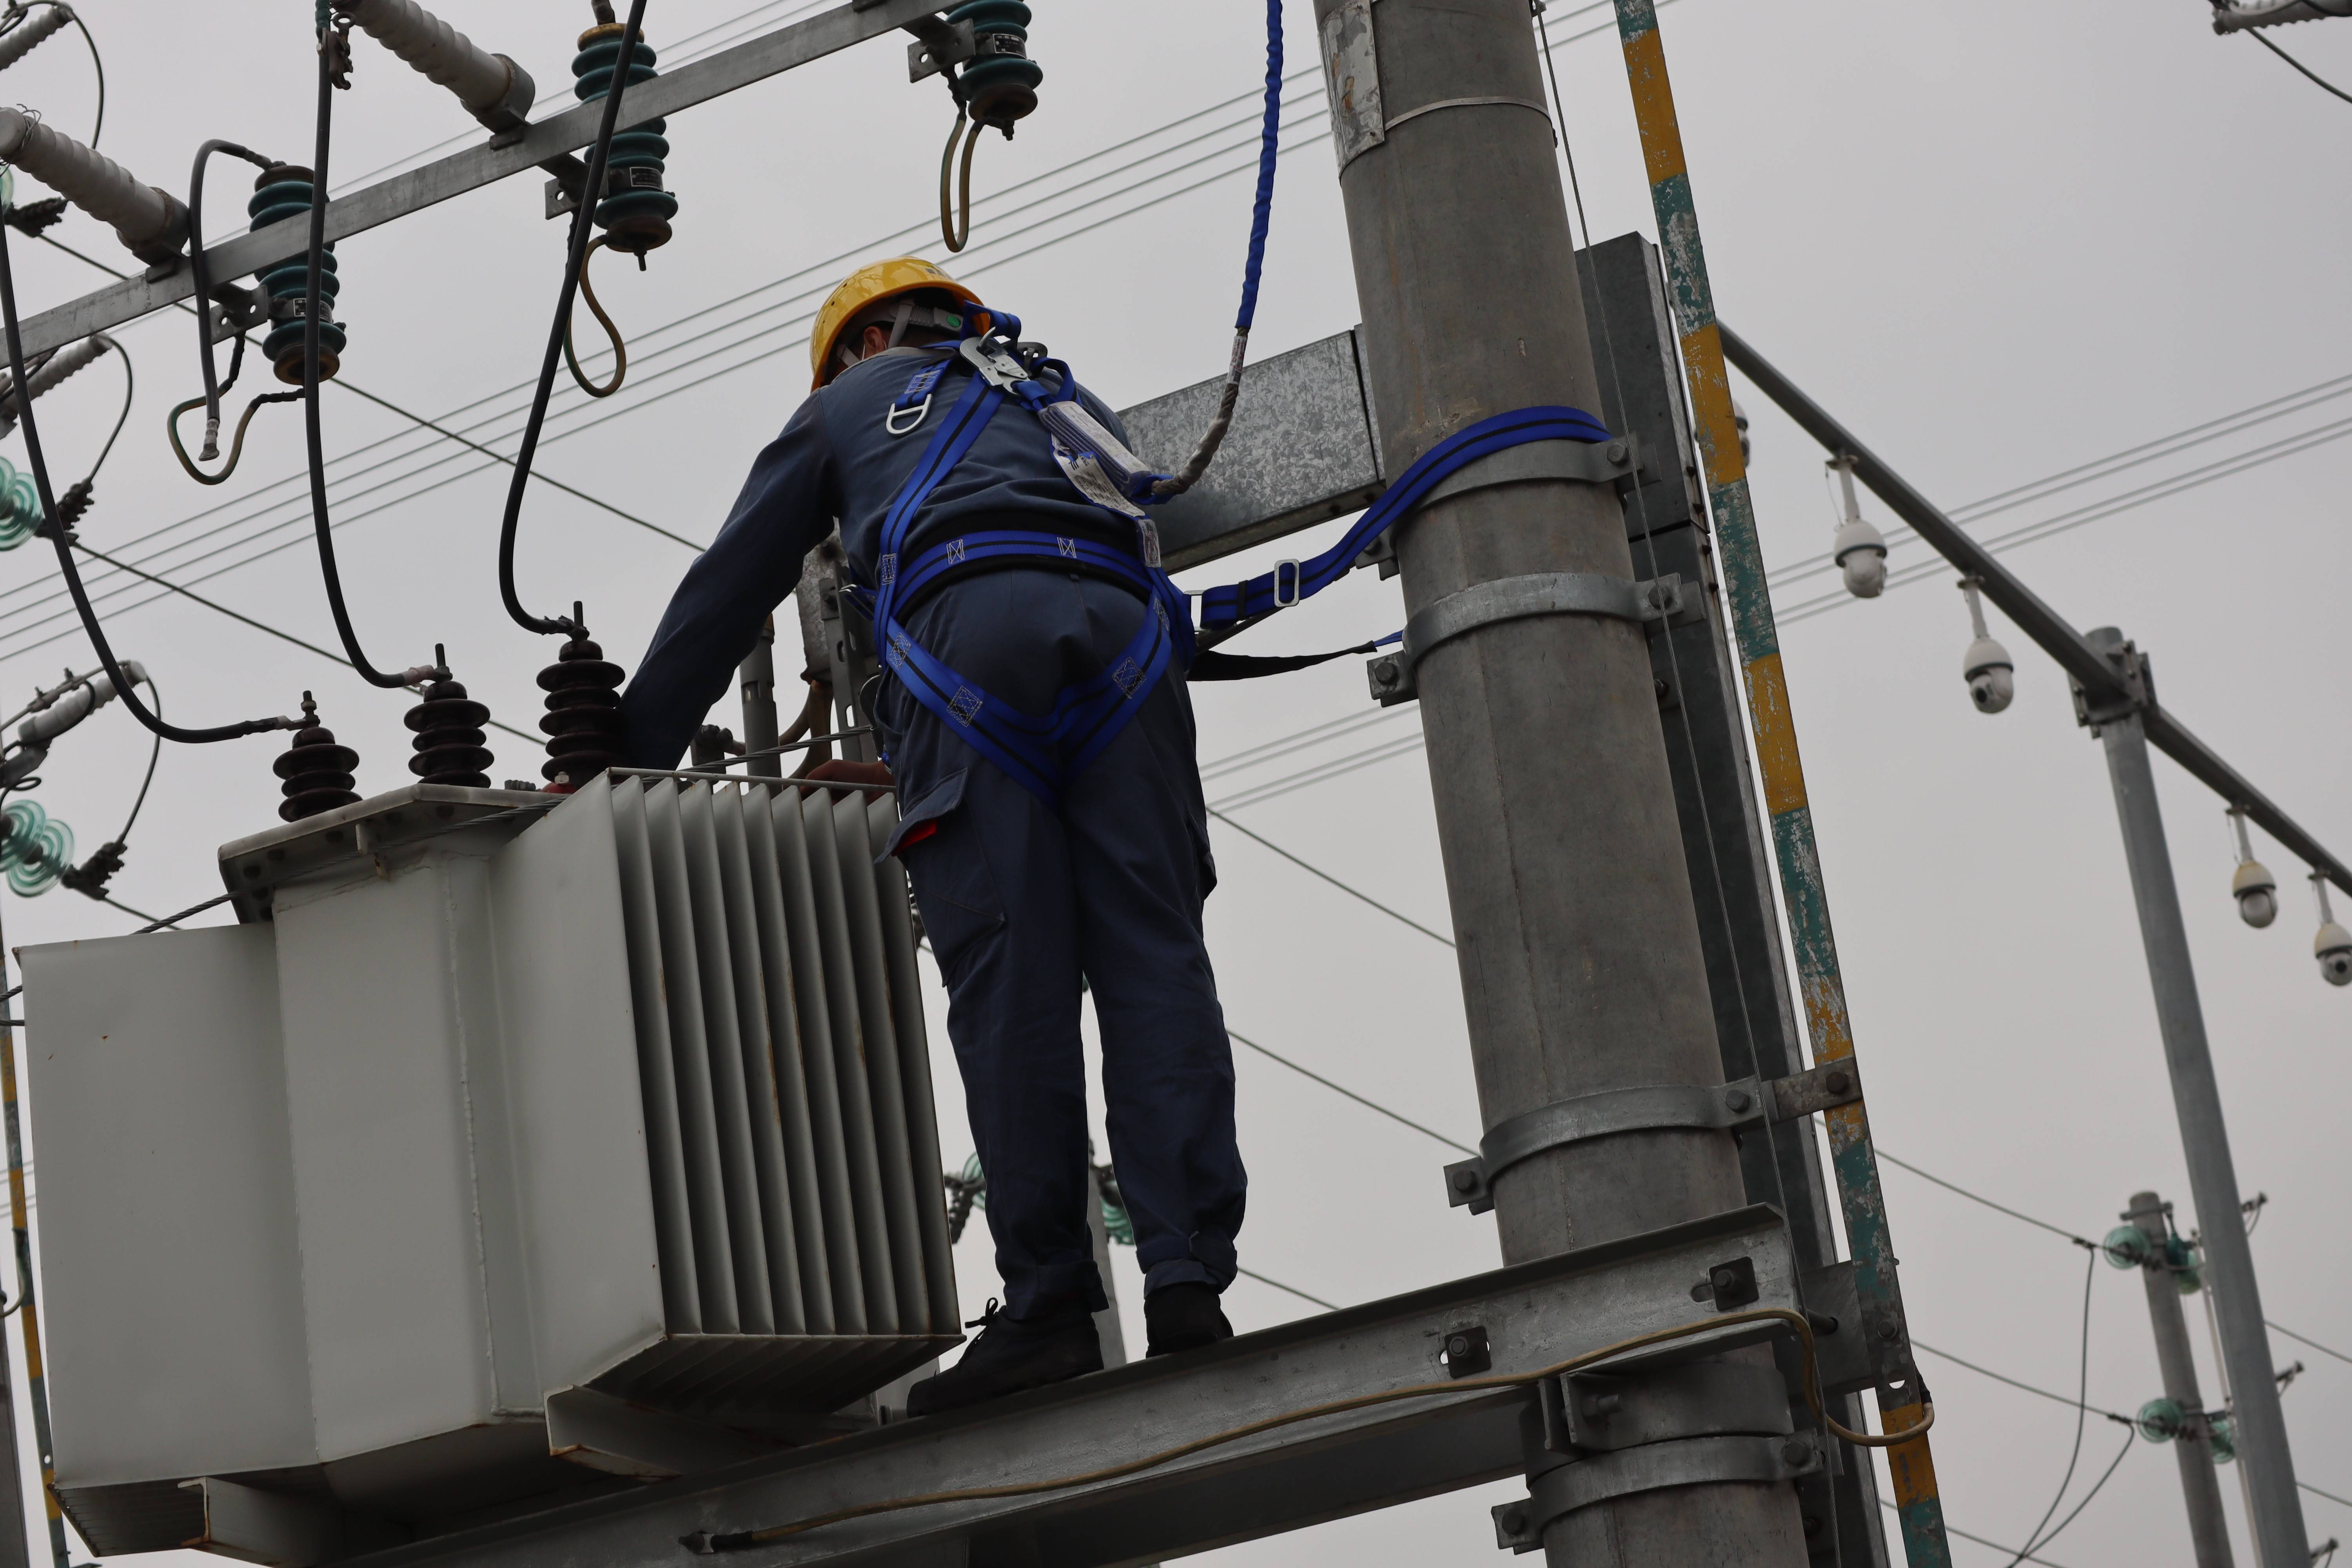downsuit: (835, 598, 1279, 1325)
upsuit: (658, 366, 1206, 611)
